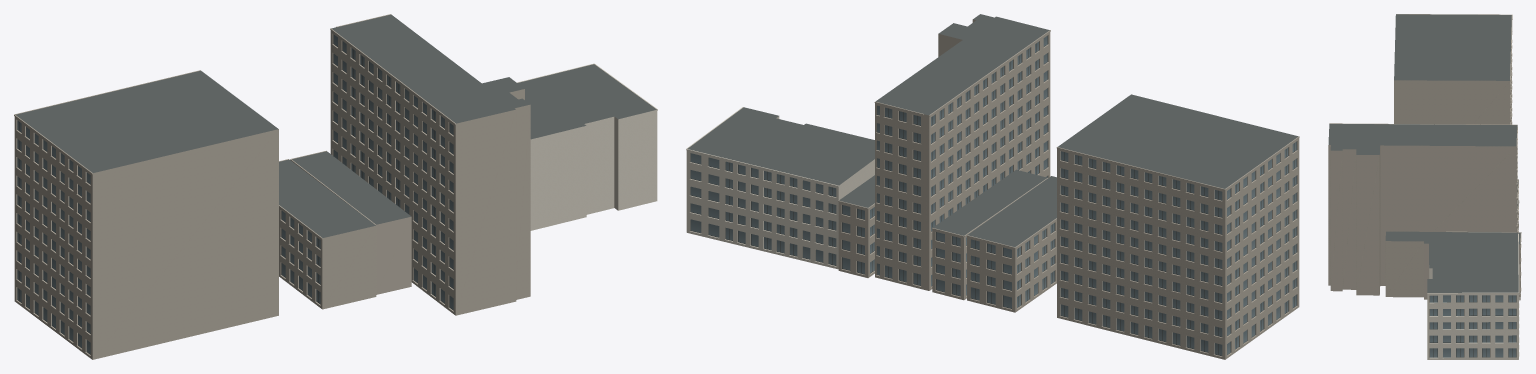
Rendered from near.gltf.
3 renders of one model, left to right at view 1: azimuth 30°, elevation 25°; view 2: azimuth 150°, elevation 25°; view 3: azimuth 270°, elevation 25°, orthographic. The views are drawn at different scales.
Parts seen in each view (by area): view 1: cell-e005-s001_near_tile-wall, cell-e005-s001_near_roof, cell-e005-s001_near_plaster, cell-e005-s001_near_glass, cell-e005-s001_near_frame; view 2: cell-e005-s001_near_tile-wall, cell-e005-s001_near_roof, cell-e005-s001_near_glass, cell-e005-s001_near_plaster, cell-e005-s001_near_frame; view 3: cell-e005-s001_near_tile-wall, cell-e005-s001_near_roof, cell-e005-s001_near_plaster, cell-e005-s001_near_glass, cell-e005-s001_near_frame.
Part boxes in pixels (x1,y1,x2,y2): cell-e005-s001_near_tile-wall: (14,14,530,359); cell-e005-s001_near_roof: (15,14,656,237); cell-e005-s001_near_plaster: (517,63,657,230); cell-e005-s001_near_glass: (17,34,453,354); cell-e005-s001_near_frame: (17,34,453,354); cell-e005-s001_near_tile-wall: (838,19,1299,359); cell-e005-s001_near_roof: (688,14,1298,246); cell-e005-s001_near_glass: (690,35,1296,355); cell-e005-s001_near_plaster: (686,107,874,269); cell-e005-s001_near_frame: (690,35,1296,356); cell-e005-s001_near_tile-wall: (1328,14,1521,300); cell-e005-s001_near_roof: (1328,14,1520,292); cell-e005-s001_near_plaster: (1427,233,1519,359); cell-e005-s001_near_glass: (1430,295,1516,357); cell-e005-s001_near_frame: (1429,295,1516,357).
Bounding box in the file's own units: 103 × 32.15 × 40.02.
5 materials, 3 textured.
